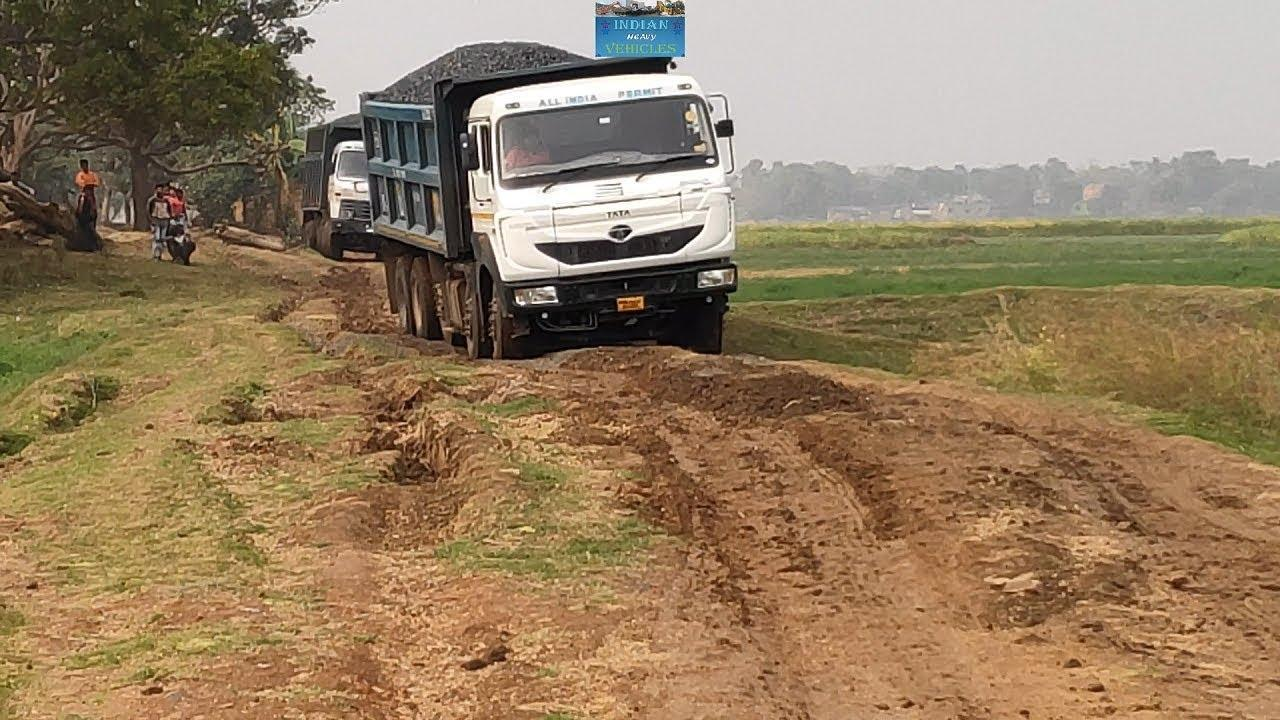truck: (359, 29, 770, 376)
